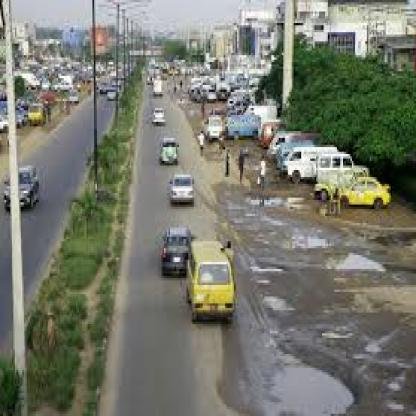car: (182, 233, 256, 340), (152, 212, 209, 284), (317, 169, 397, 219), (151, 135, 192, 183), (4, 162, 40, 216), (280, 155, 343, 184), (224, 110, 262, 152), (163, 167, 201, 204), (202, 108, 230, 148), (23, 100, 55, 132), (57, 89, 84, 112), (148, 73, 164, 101), (154, 109, 170, 132), (99, 89, 121, 104)
